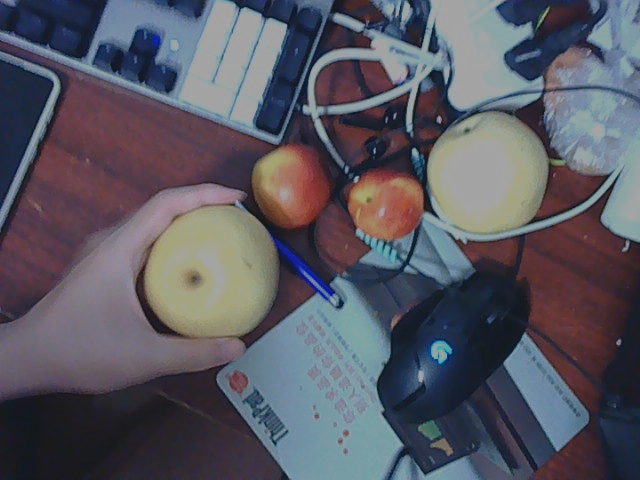peach: (251, 145, 335, 225), (347, 169, 421, 235)
pear: (144, 201, 275, 340), (425, 114, 548, 232)
